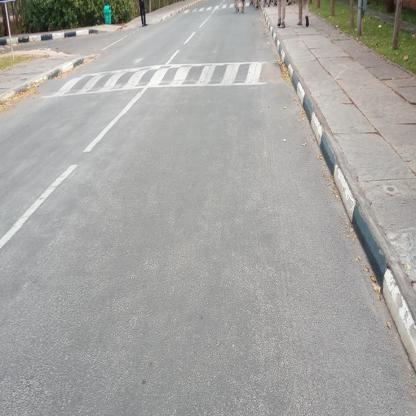speed-bumps: (41, 51, 284, 103)
